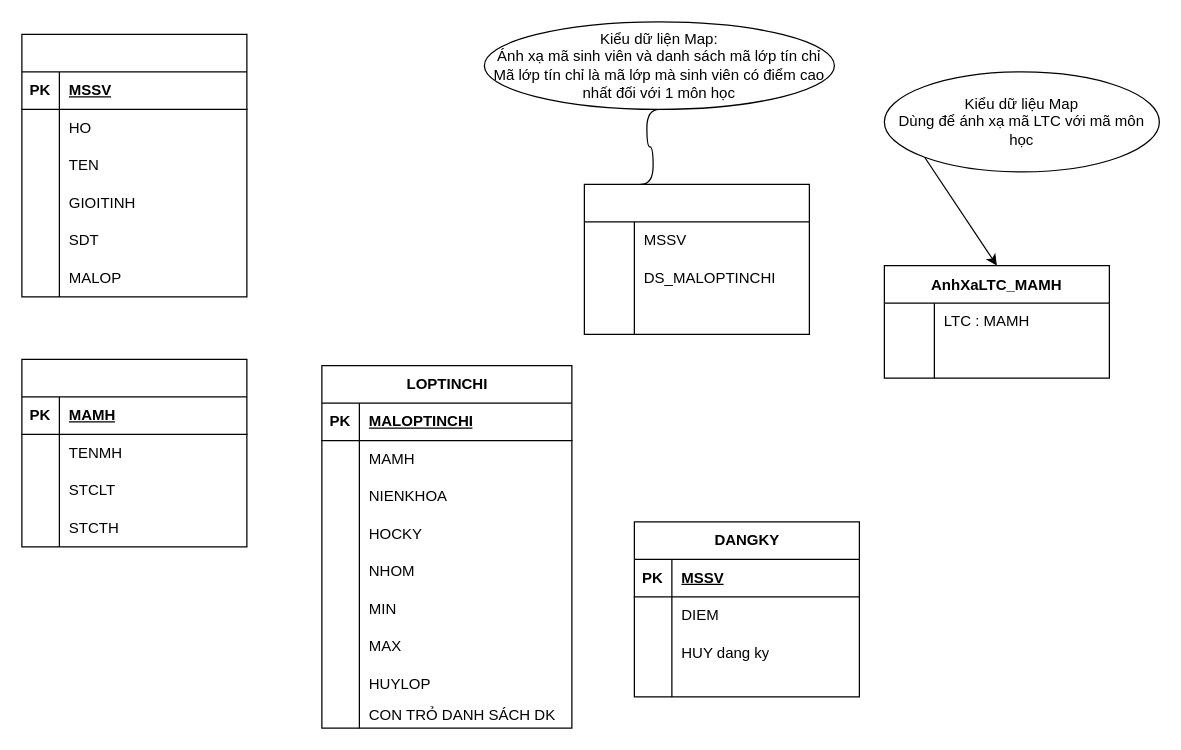
Some shapes in this 1181 by 750 pixel diagram are drawn without their labels. Here are the shapes that lost their labels. From the top down, the box of each, then its label:
(21, 33, 247, 297): SINHVIEN
(583, 183, 809, 334): DIEMCAONHAT
(21, 358, 247, 547): MONHOC
